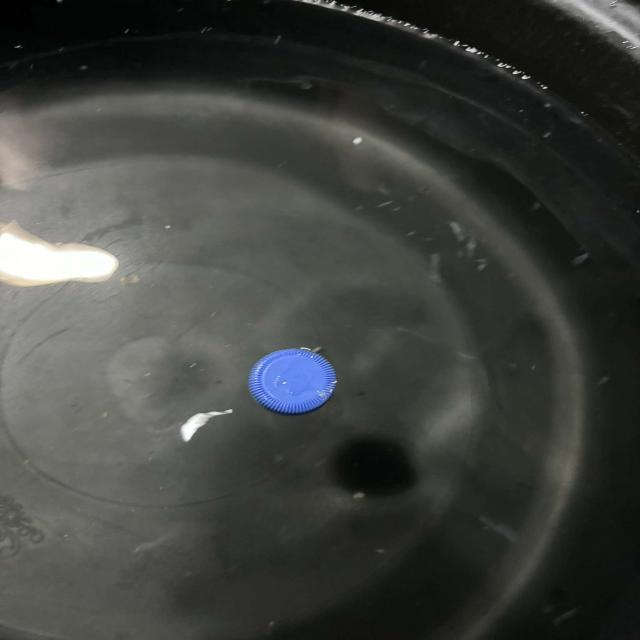Bottle Lid: (249, 348, 337, 414)
